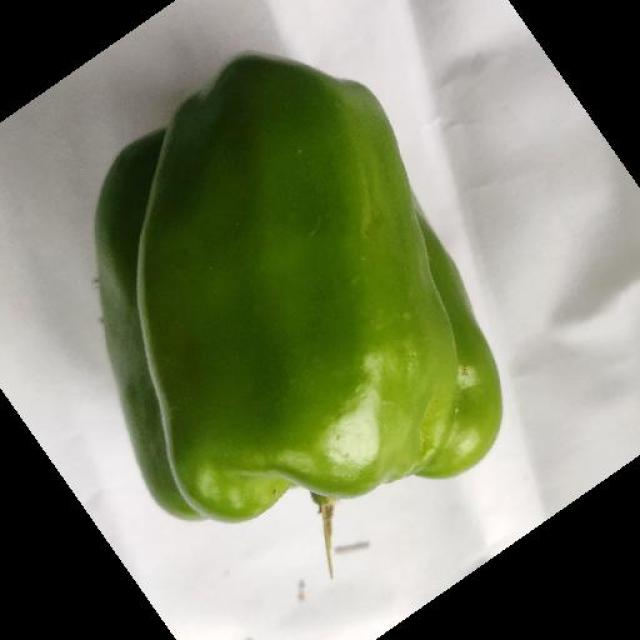Fresh_Capsicum: (121, 120, 475, 509)
